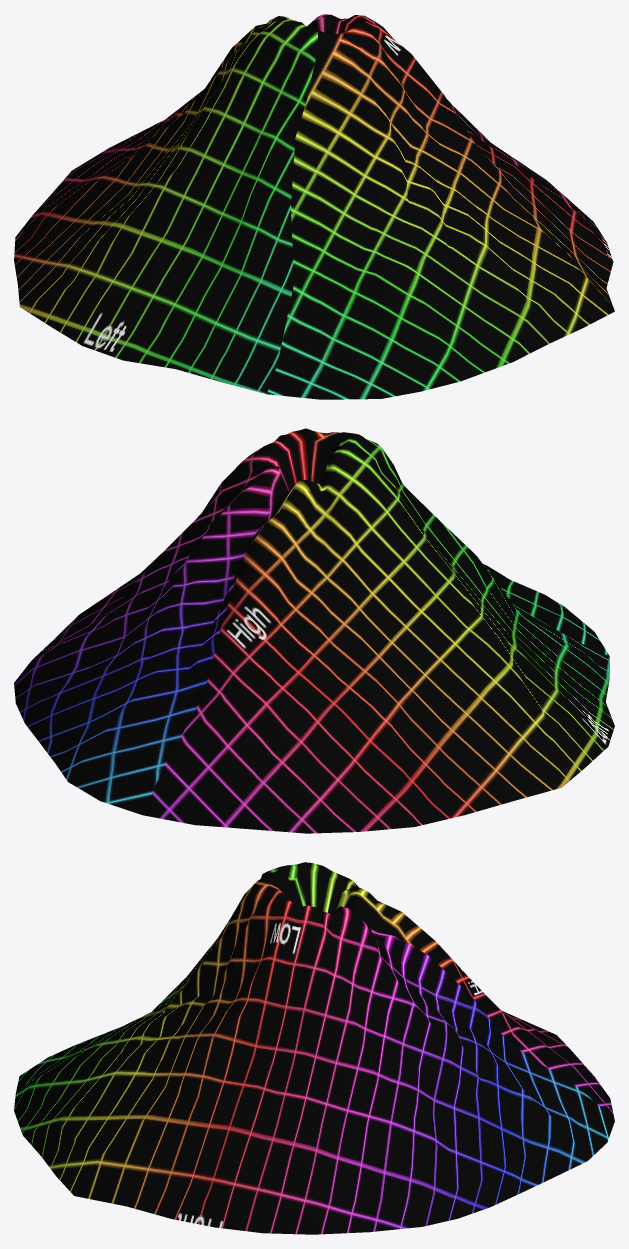
Rendered from volcano_sleep.obj.
3 renders of one model, top to bottom at view 1: azimuth 30°, elevation 25°; view 2: azimuth 150°, elevation 25°; view 3: azimuth 270°, elevation 25°, orthographic. The views are drawn at different scales.
Bounding box in the file's own units: 7.54 × 3.53 × 7.89.
Materials: 1 (1 with a texture image).
